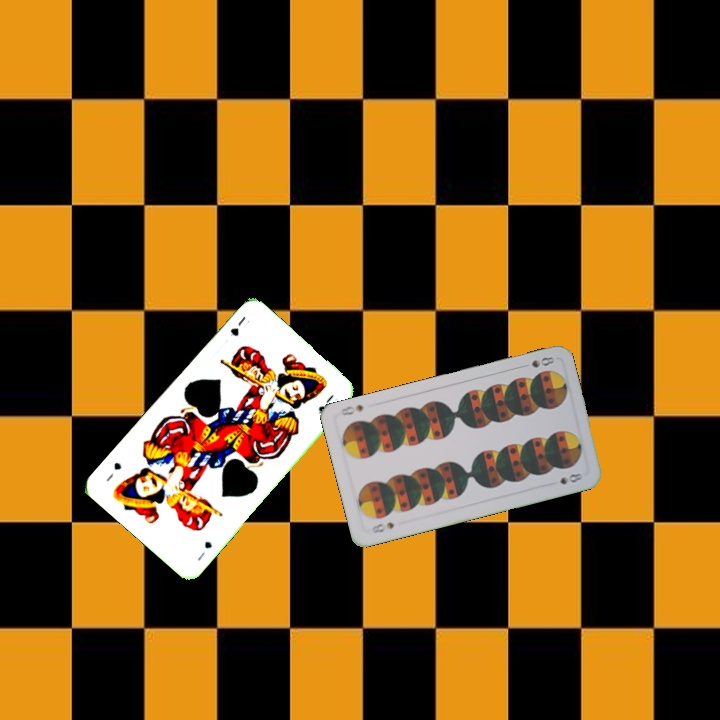GU: (226, 312, 253, 339), (193, 537, 215, 564)
S8: (517, 353, 557, 370), (368, 518, 397, 536)
